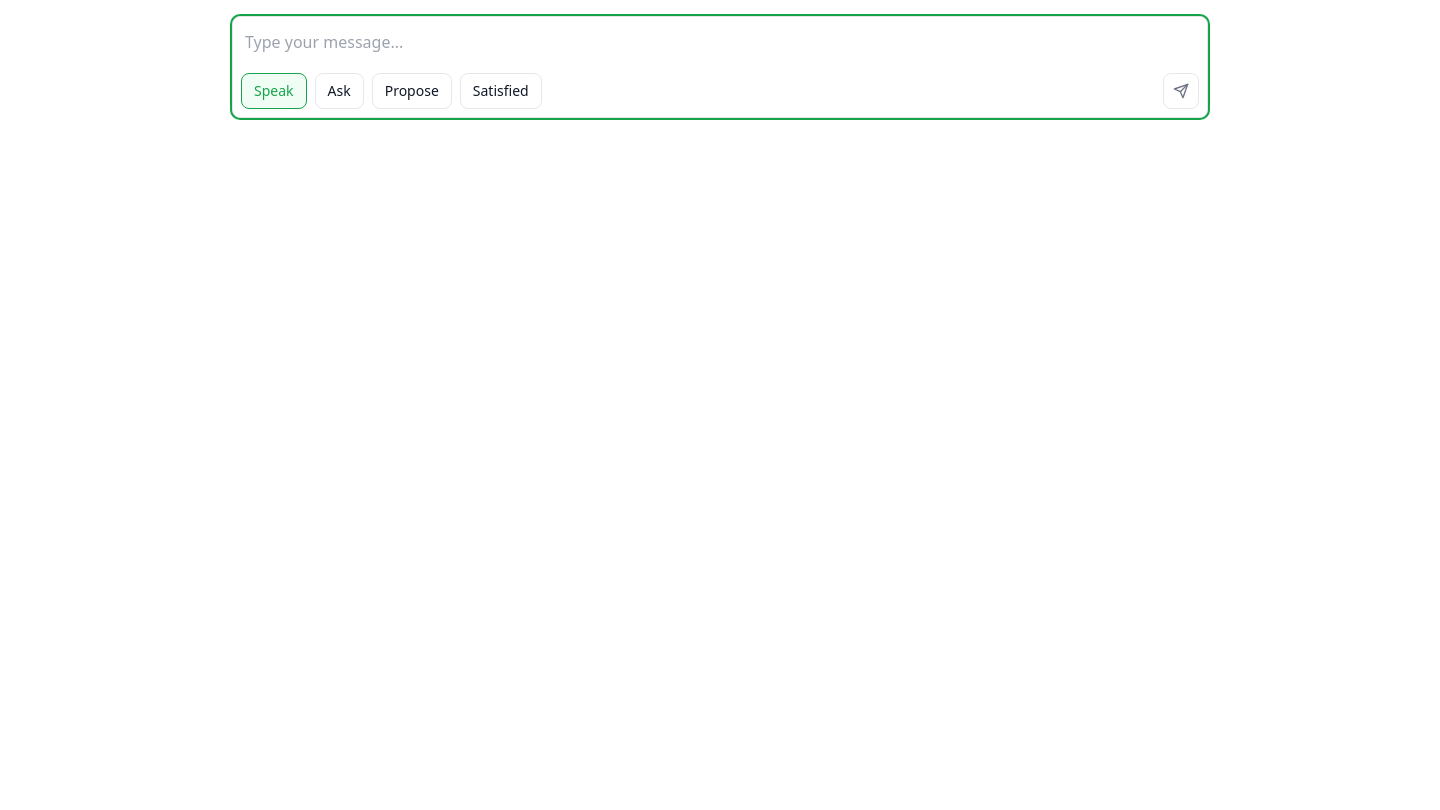
Scenario: UserInputSection speaking turn › keeps AI edits in the main editor after closing the dialog (auto-save)
This screenshot has width=1440, height=810.
Click the button "Propose" at x=412, y=91, box [372,73,452,109]
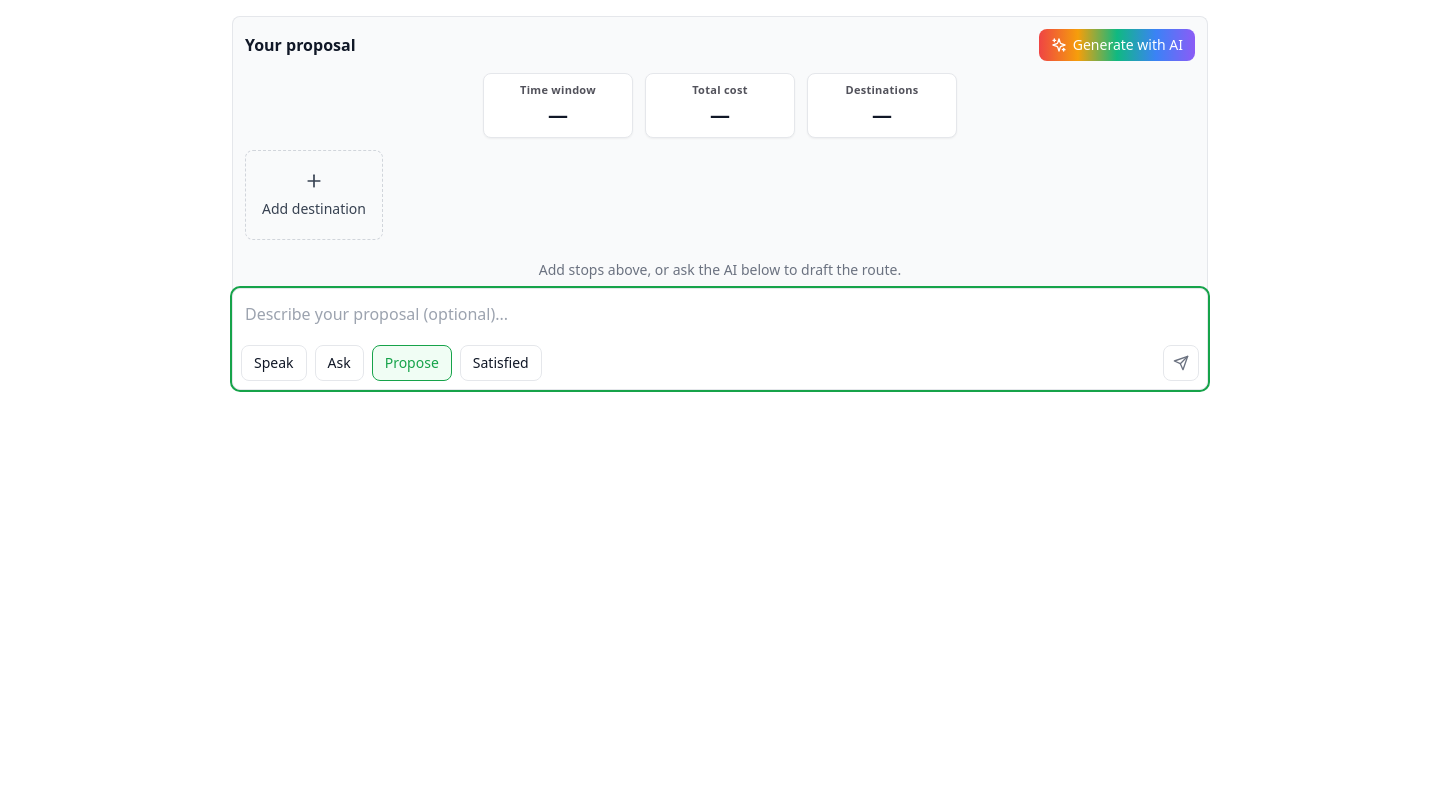
Click the button "Generate with AI" at x=1117, y=45, box [1039,29,1195,61]
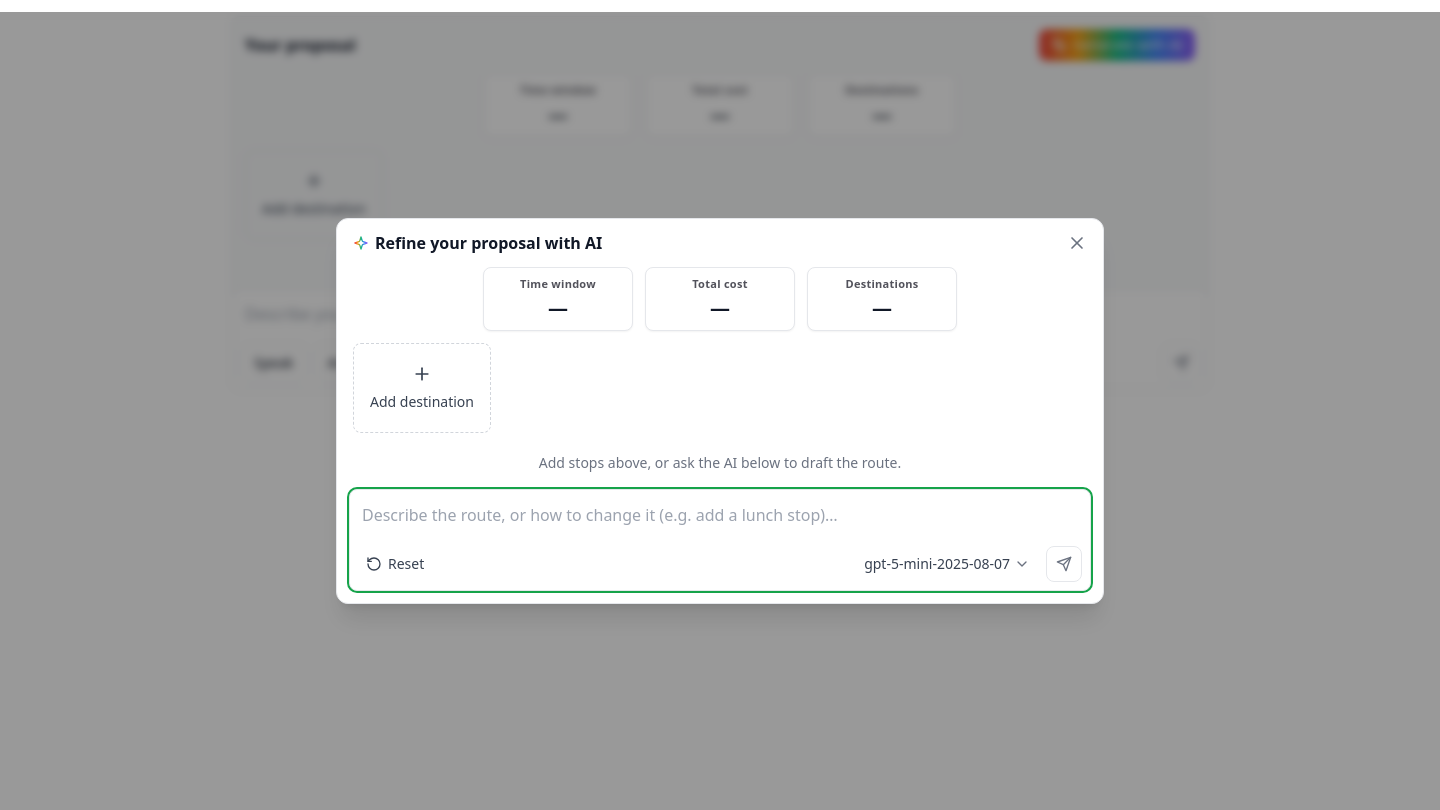
Replace the text in the text box with placeholder "Describe the route, or how to change it (e.g. add a lunch stop)…" with "Draft something" at x=720, y=518, box [350,490,1090,546]
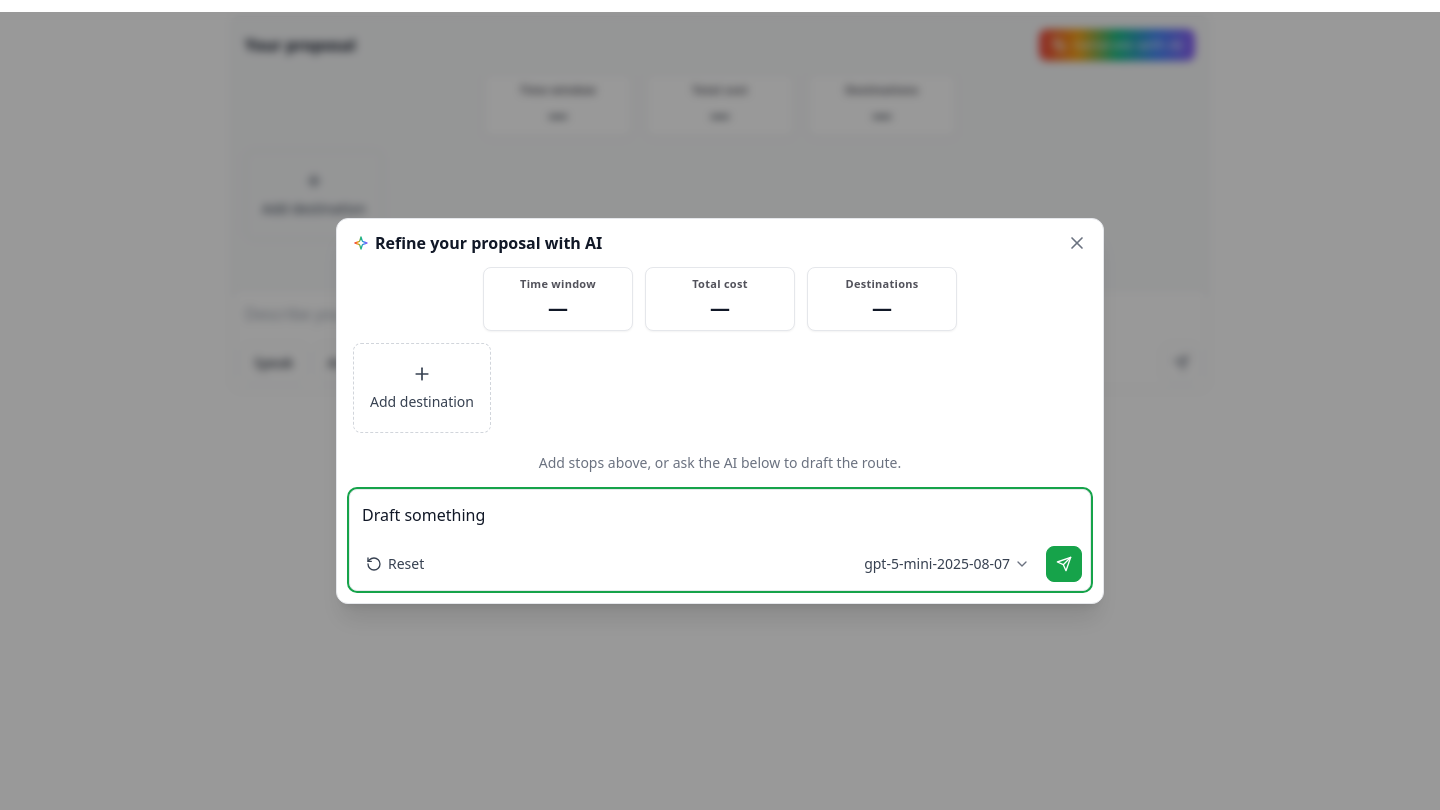
Click the button named "Send" at x=1064, y=564, box [1046,546,1082,582]
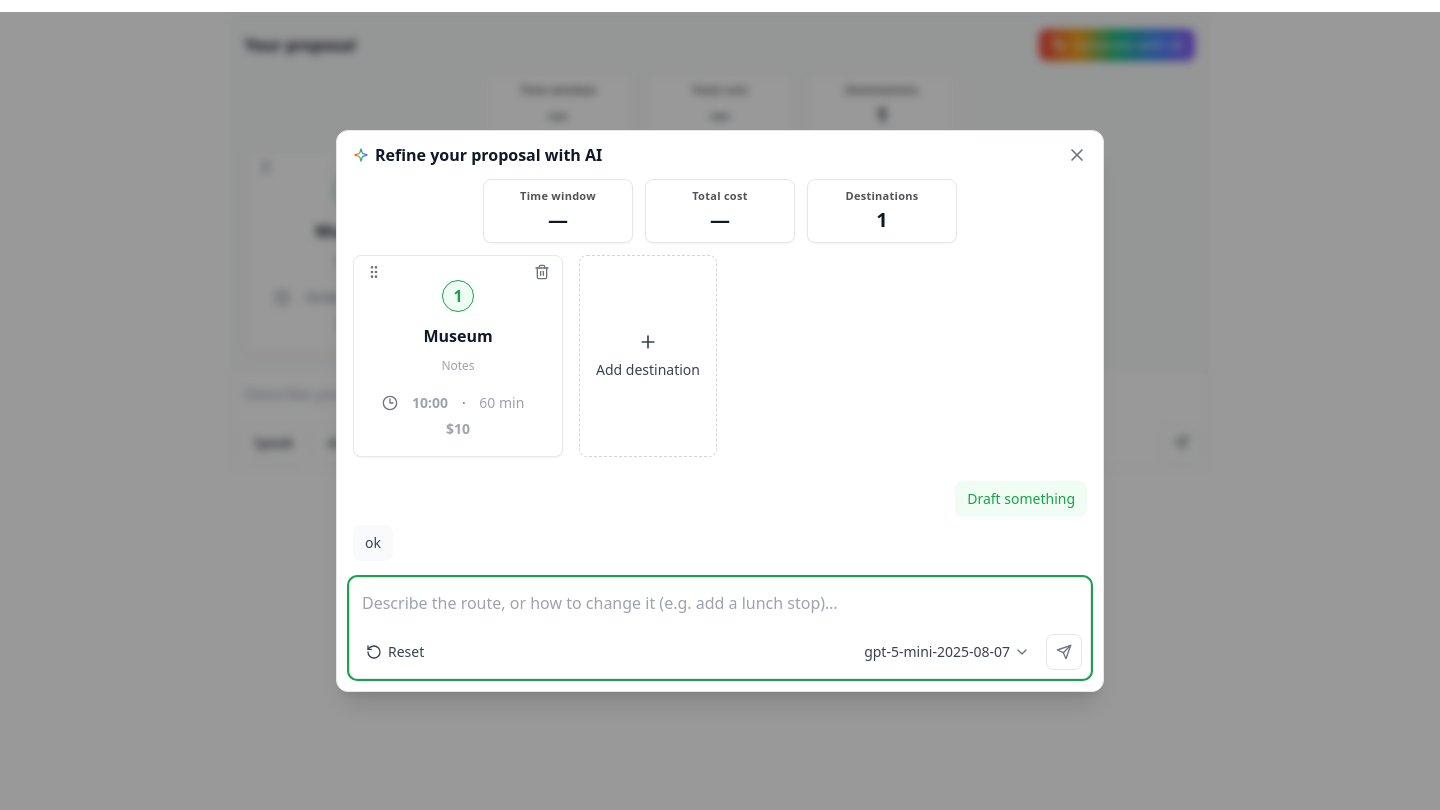
Now the text "ok" is shown, box [353,525,393,561]
Click the button named "Close" at x=1077, y=155, box [1067,145,1087,165]
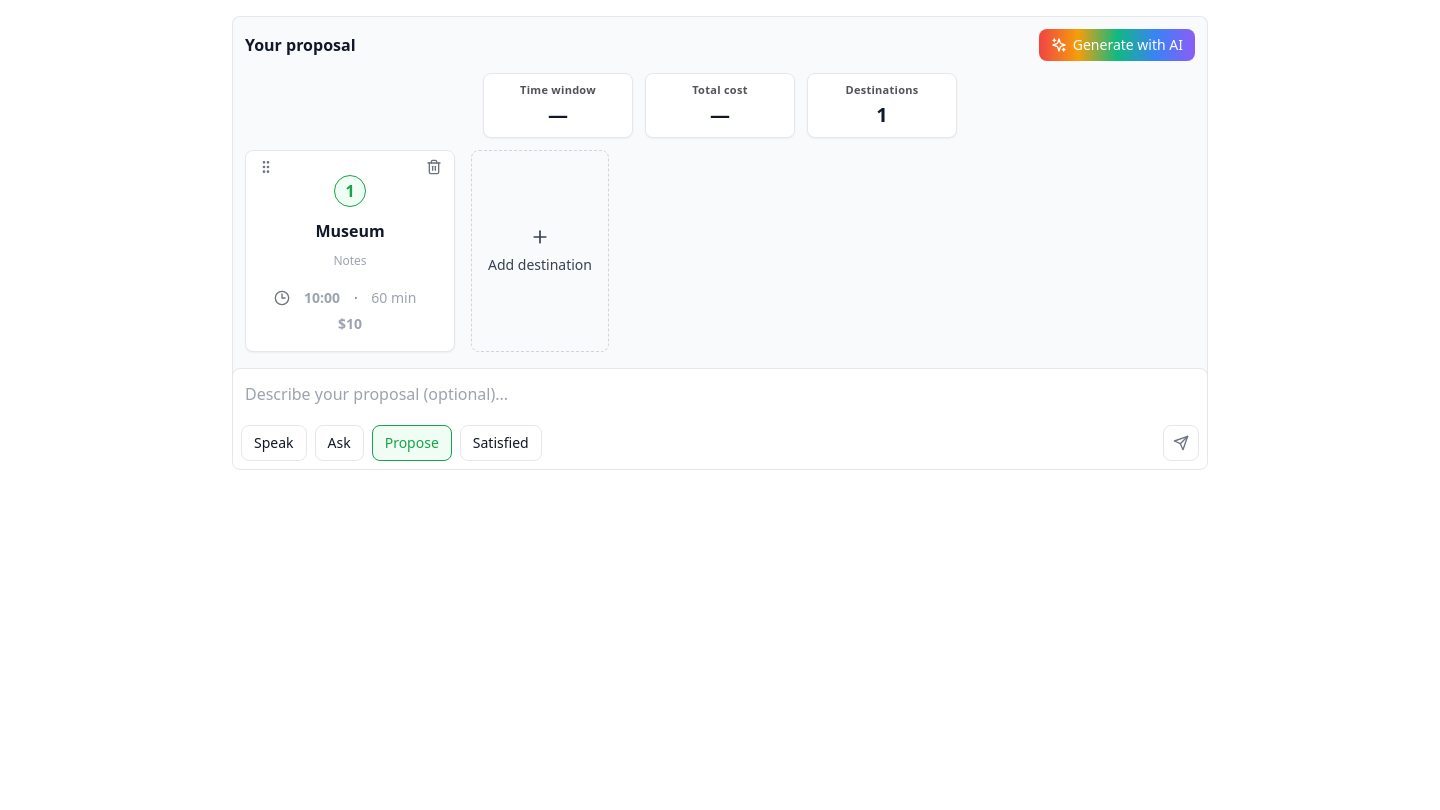
Now the text box showing "Museum" is shown, box [258,218,442,240]
Now the heading "Refine your proposal with AI" is gone
